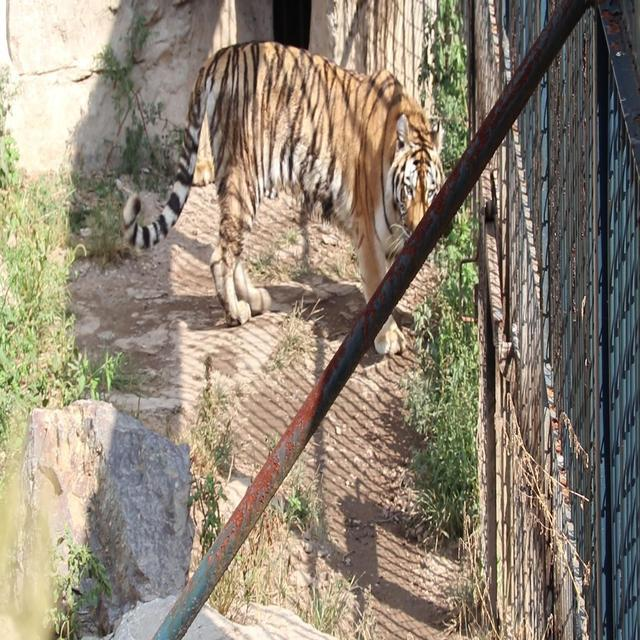tiger: (116, 38, 447, 356)
